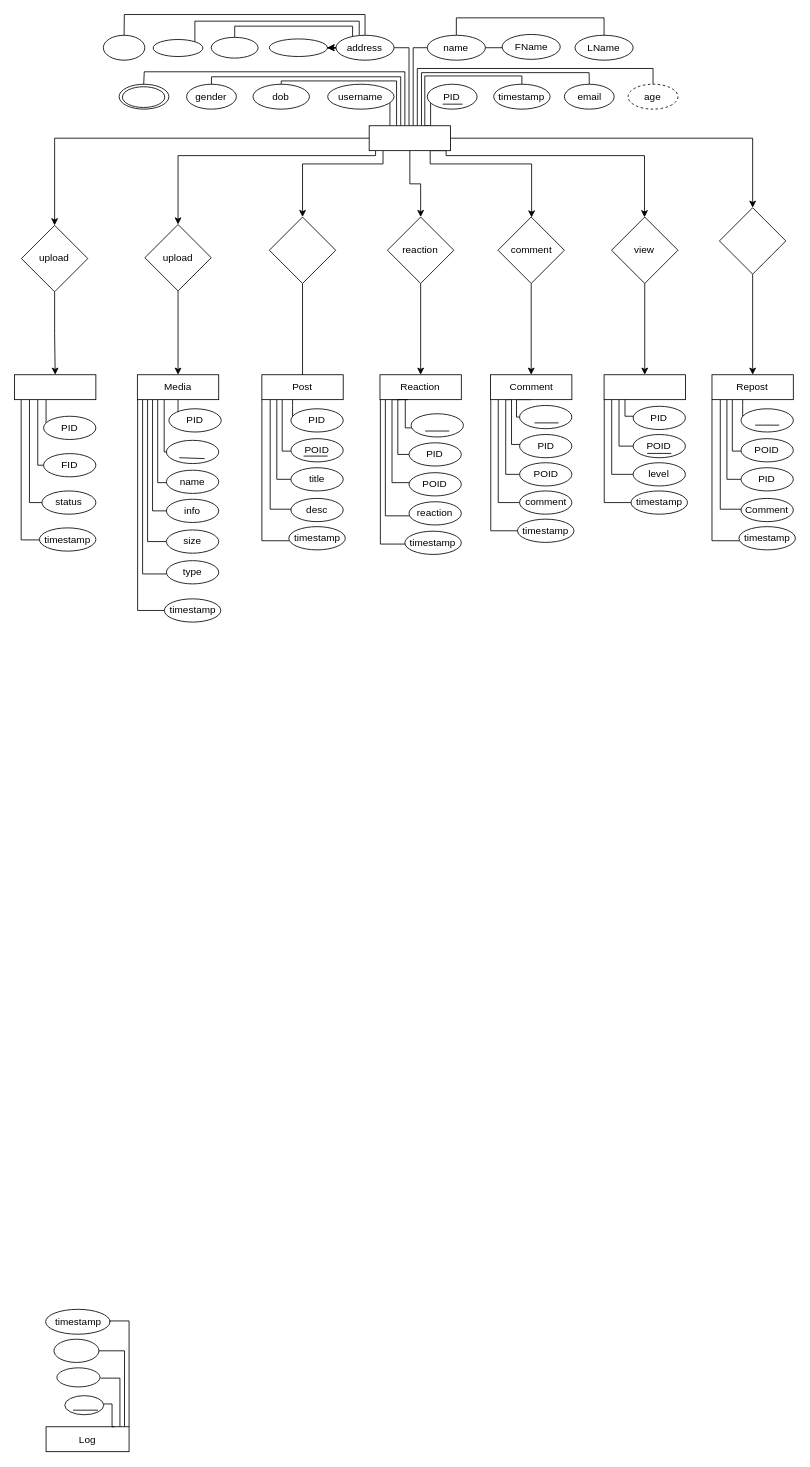
Image size: 810x1467. Some labels were removed from this diagram. Here are the shapes that lost their labels. From the top down, the box of each, then its label:
(103, 34, 145, 60): region
(152, 39, 203, 57): zip
(210, 37, 258, 58): city
(269, 38, 327, 57): steet
(118, 83, 169, 109): Numb
(368, 125, 451, 151): Person
(269, 216, 336, 283): create
(719, 207, 786, 274): repost (share)
(14, 374, 96, 400): Friend
(603, 374, 685, 400): PostVisibility
(410, 413, 463, 437): RID
(519, 405, 572, 429): CID
(740, 408, 793, 432): RPID
(166, 439, 219, 464): MID
(53, 1338, 99, 1362): device
(56, 1367, 100, 1387): ip
(64, 1395, 104, 1415): logID
